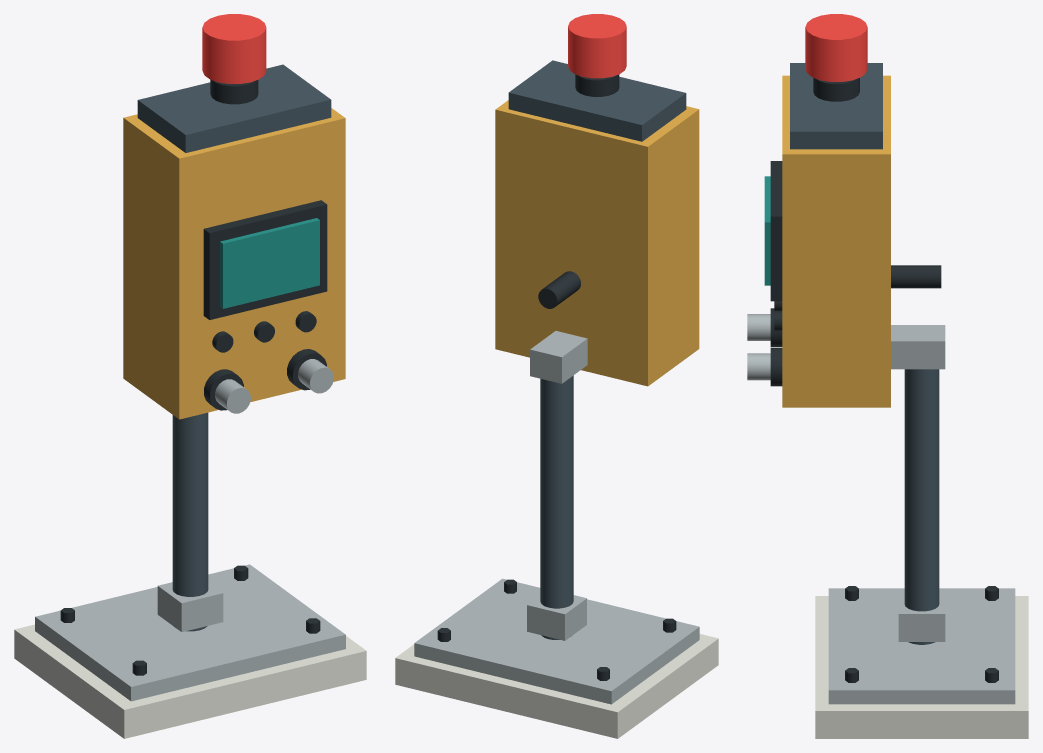
The model's file is gas_detector.glb.
The picture shows the model from 3 angles, left to right: view 1: azimuth 30°, elevation 25°; view 2: azimuth 150°, elevation 25°; view 3: azimuth 270°, elevation 25°; orthographic projection. The views are drawn at different scales.
Visible parts, largest first — view 1: gas_detector__body, gas_detector__screen, gas_detector__alarm_lamp, gas_detector__beacon; view 2: gas_detector__body, gas_detector__alarm_lamp, gas_detector__beacon; view 3: gas_detector__body, gas_detector__alarm_lamp, gas_detector__screen, gas_detector__beacon.
Boxes of the visible parts, left/top/right/bottom form: gas_detector__body: left=14, top=64, right=366, bottom=738; gas_detector__screen: left=203, top=200, right=327, bottom=319; gas_detector__alarm_lamp: left=202, top=14, right=266, bottom=83; gas_detector__beacon: left=210, top=79, right=258, bottom=104; gas_detector__body: left=395, top=60, right=718, bottom=738; gas_detector__alarm_lamp: left=568, top=14, right=626, bottom=78; gas_detector__beacon: left=575, top=74, right=619, bottom=96; gas_detector__body: left=747, top=63, right=1028, bottom=738; gas_detector__alarm_lamp: left=805, top=14, right=867, bottom=81; gas_detector__screen: left=764, top=161, right=782, bottom=301; gas_detector__beacon: left=813, top=78, right=859, bottom=101.
Size of the model in its own units: 0.7 by 1.86 by 0.725.
